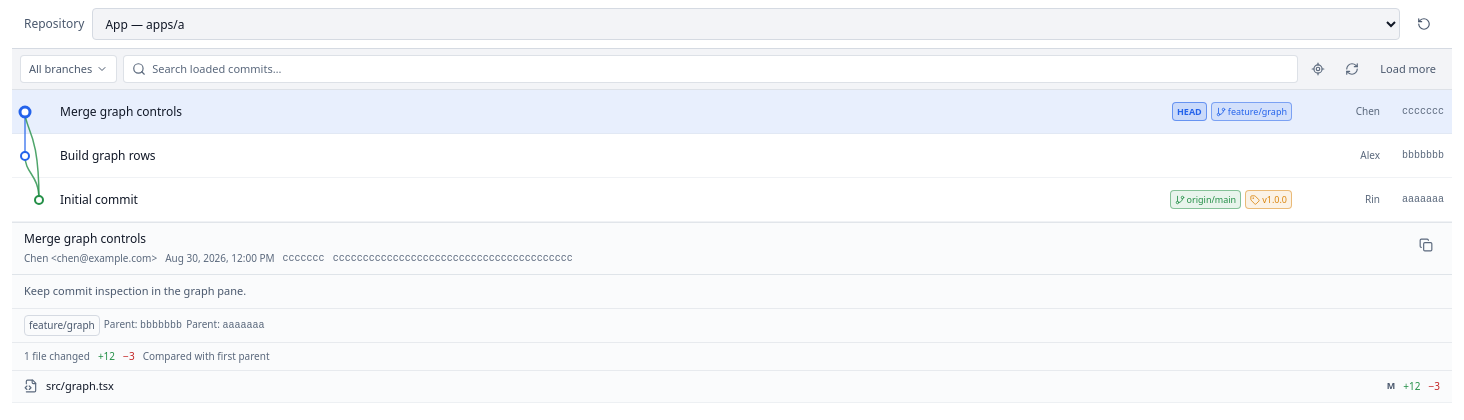
Test: GitGraphPanel › switches repositories inside one Graph and restores the repository search
Expected: the dropdown labelled "Repository" shows "App — apps/a", [92,8,1400,40]
Type "Chen" into the search field at (722, 69), box [146,61,1297,77]
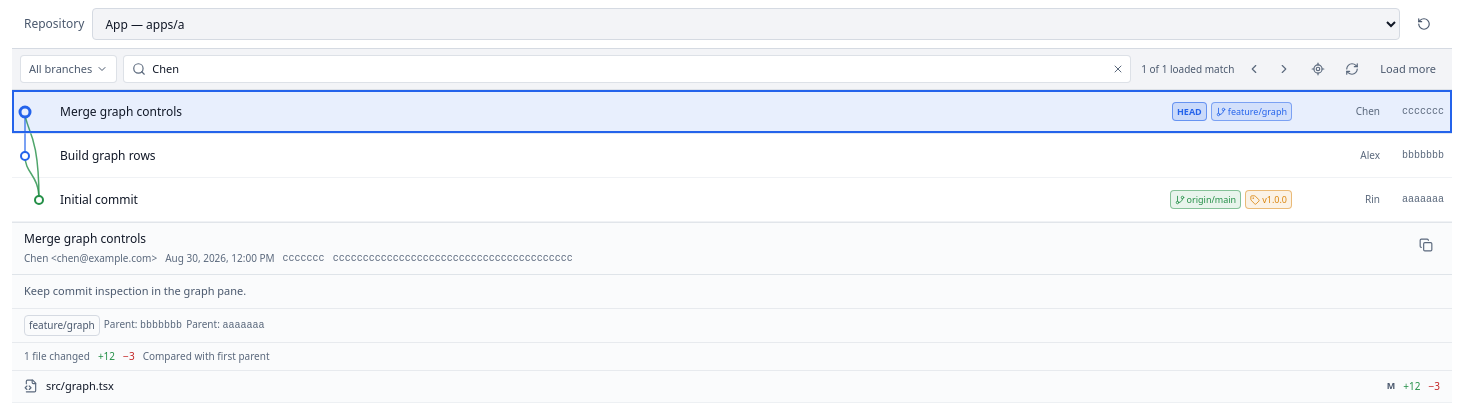
Select "App — apps/b" in the dropdown labelled "Repository" at (746, 24), box [92,8,1400,40]
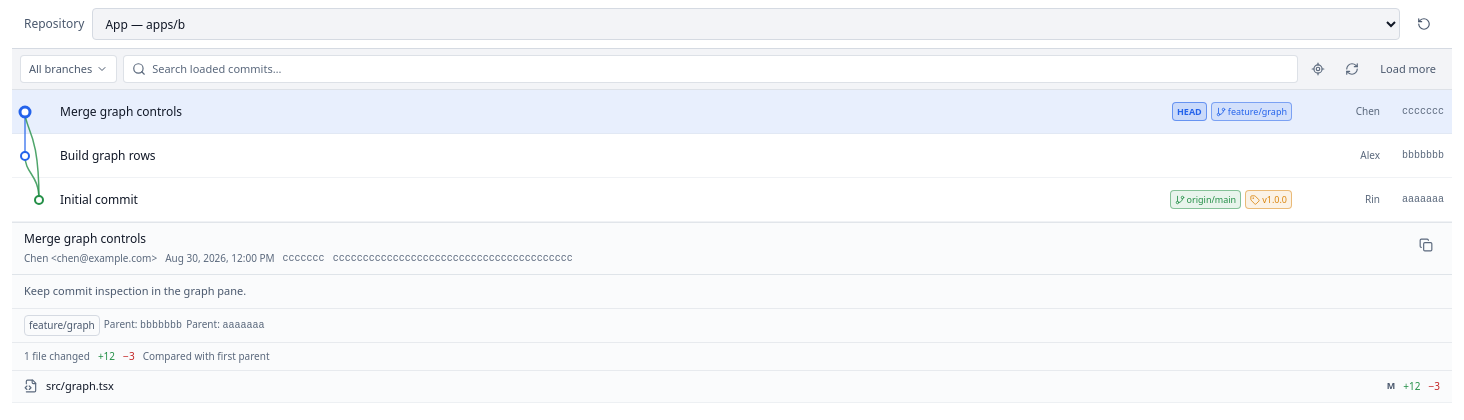
Expected: the search field is empty, [146,61,1297,77]
Select "App — apps/a" in the dropdown labelled "Repository" at (746, 24), box [92,8,1400,40]
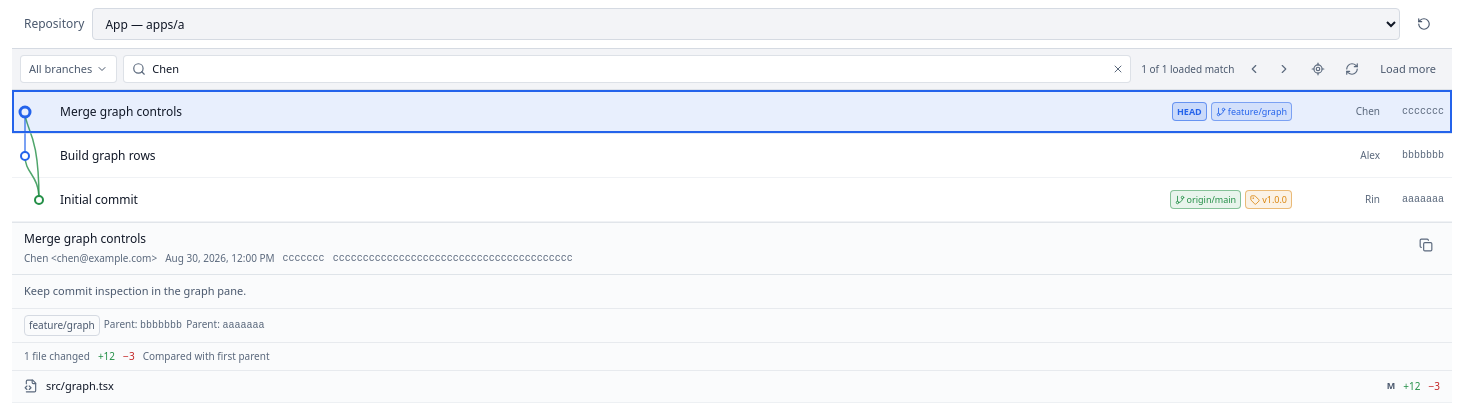
Expected: the search field holds "Chen", [146,61,1106,77]
